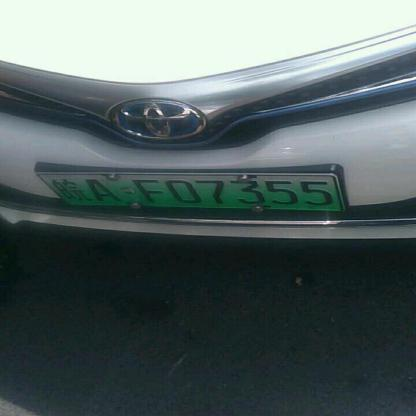lp: (38, 174, 69, 210)
